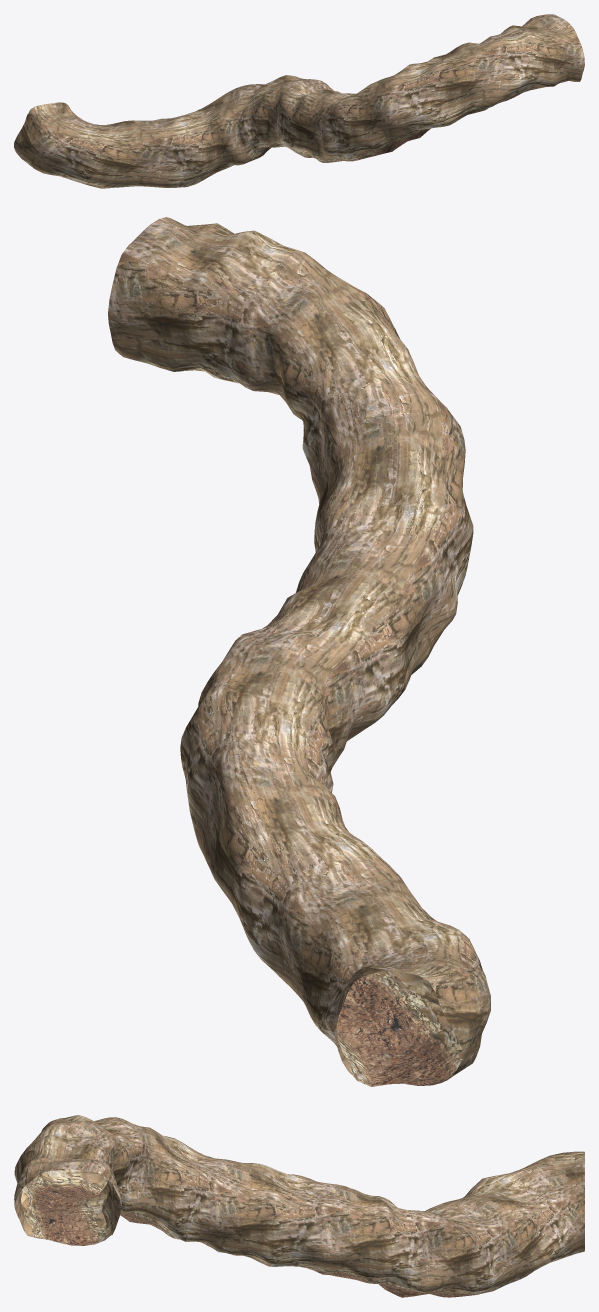
File: thm_tato_cave_s01_r3_mesh_r3.fbx
3 views of the same model, one above another, from view 1: azimuth 30°, elevation 25°; view 2: azimuth 150°, elevation 25°; view 3: azimuth 270°, elevation 25° (orthographic). The views are drawn at different scales.
Visible parts, largest first — view 1: mesh_node; view 2: mesh_node; view 3: mesh_node.
Boxes of the visible parts, x1=… form: mesh_node: x1=14, y1=14, x2=584, y2=188; mesh_node: x1=108, y1=217, x2=490, y2=1086; mesh_node: x1=14, y1=1115, x2=584, y2=1297.
Bounding box in the file's own units: 57.91 × 34.28 × 61.69.
